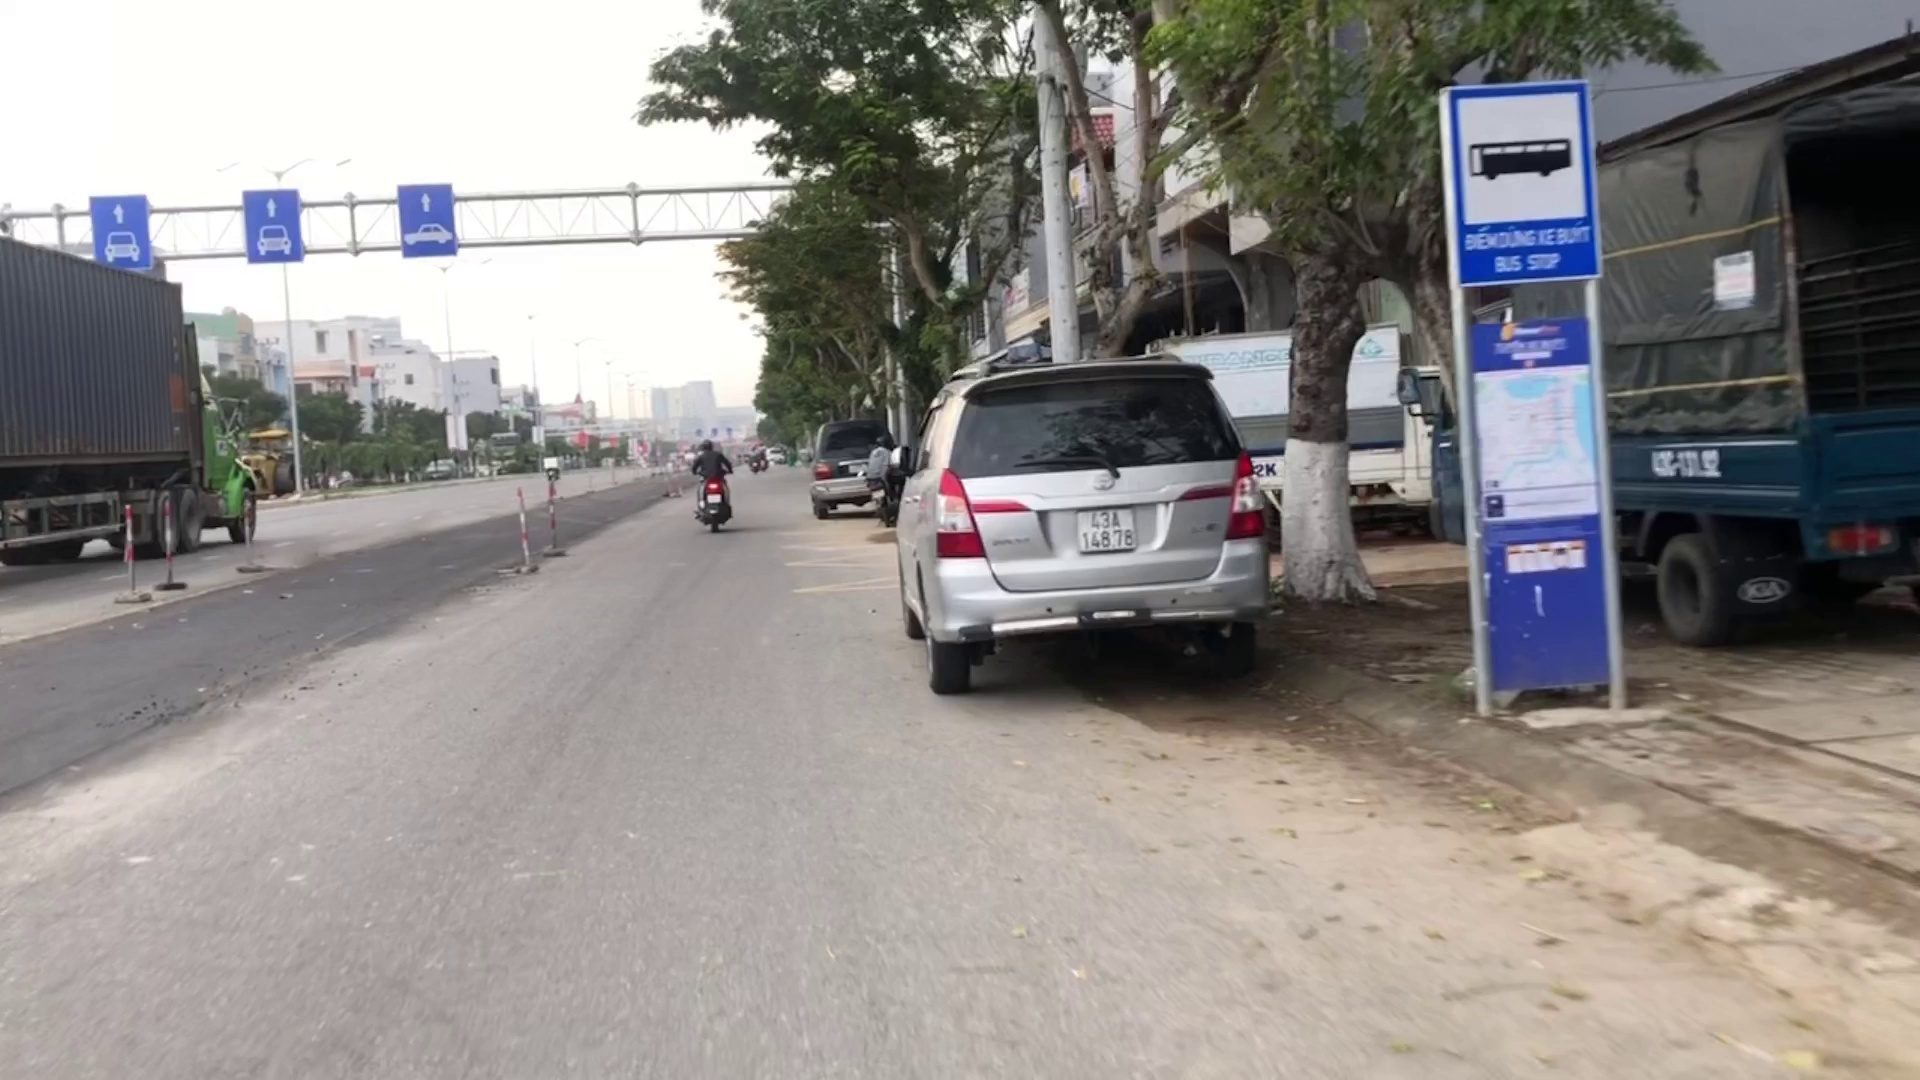Bien khac: (1443, 76, 1600, 276)
